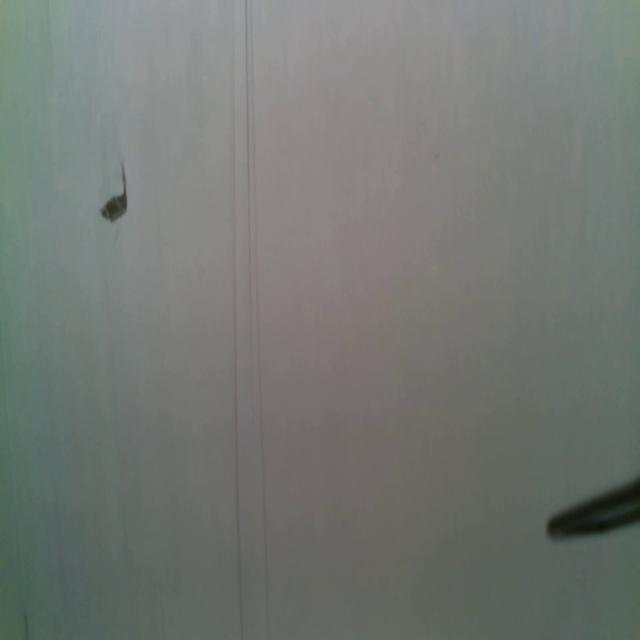crease: (232, 0, 272, 639)
hole: (98, 160, 130, 223)
